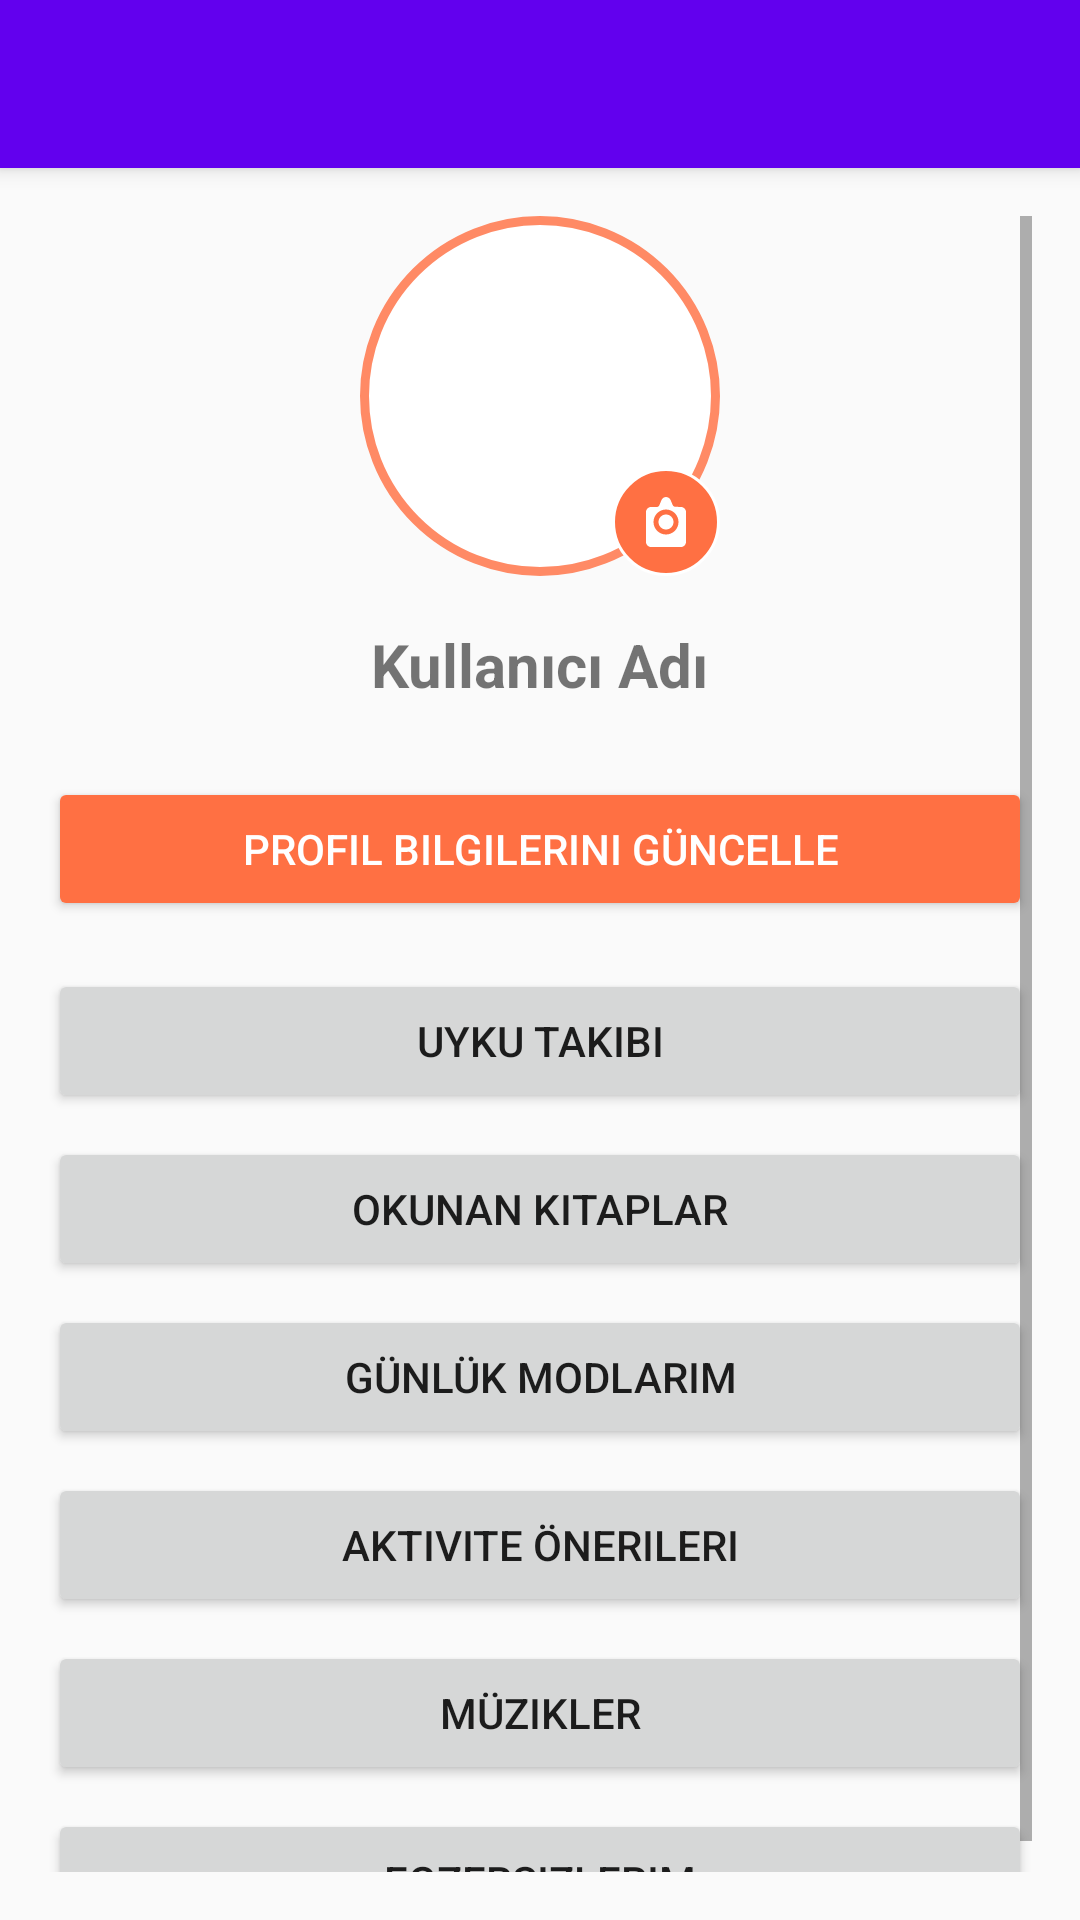

Named icons in this screenshot (1080px×1920px) and their bounding boxes, rect(x1, y1, x2, y2):
Profil resmini düzenle: rect(615, 471, 717, 573)
